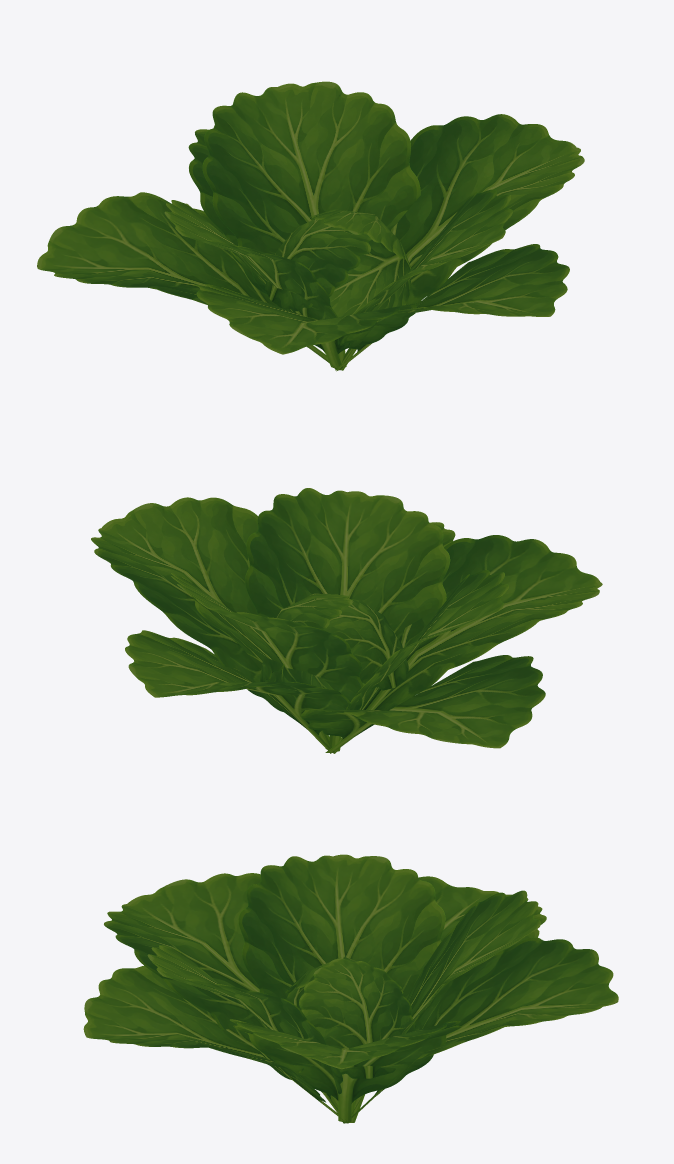
Rendered from CabbagePlant02.fbx.
3 views of the same model, one above another, from view 1: azimuth 30°, elevation 25°; view 2: azimuth 150°, elevation 25°; view 3: azimuth 270°, elevation 25° (orthographic). The views are drawn at different scales.
Parts seen in each view (by area): view 1: CabbagePlant02_LOD0; view 2: CabbagePlant02_LOD0; view 3: CabbagePlant02_LOD0.
Part boxes in pixels (left/top/right/bottom): CabbagePlant02_LOD0: left=37, top=81, right=584, bottom=371; CabbagePlant02_LOD0: left=91, top=488, right=602, bottom=753; CabbagePlant02_LOD0: left=83, top=854, right=618, bottom=1123.
Size of what is drawn, in the model's own units: 0.4554 by 0.1982 by 0.4472.
